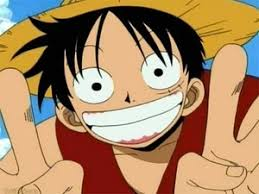Luffy: (52, 3, 204, 148)
